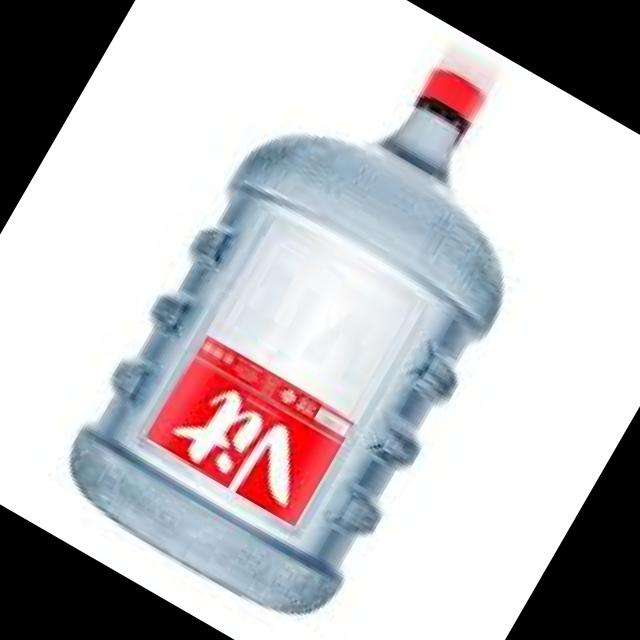Galon: (43, 0, 597, 640)
